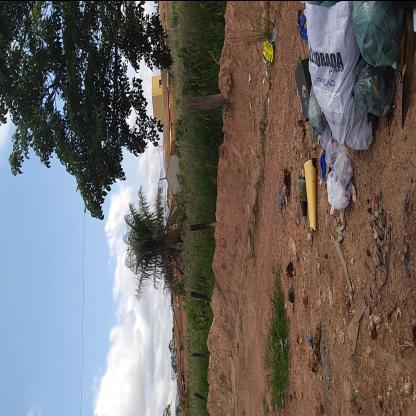lixo: (301, 1, 415, 226)
